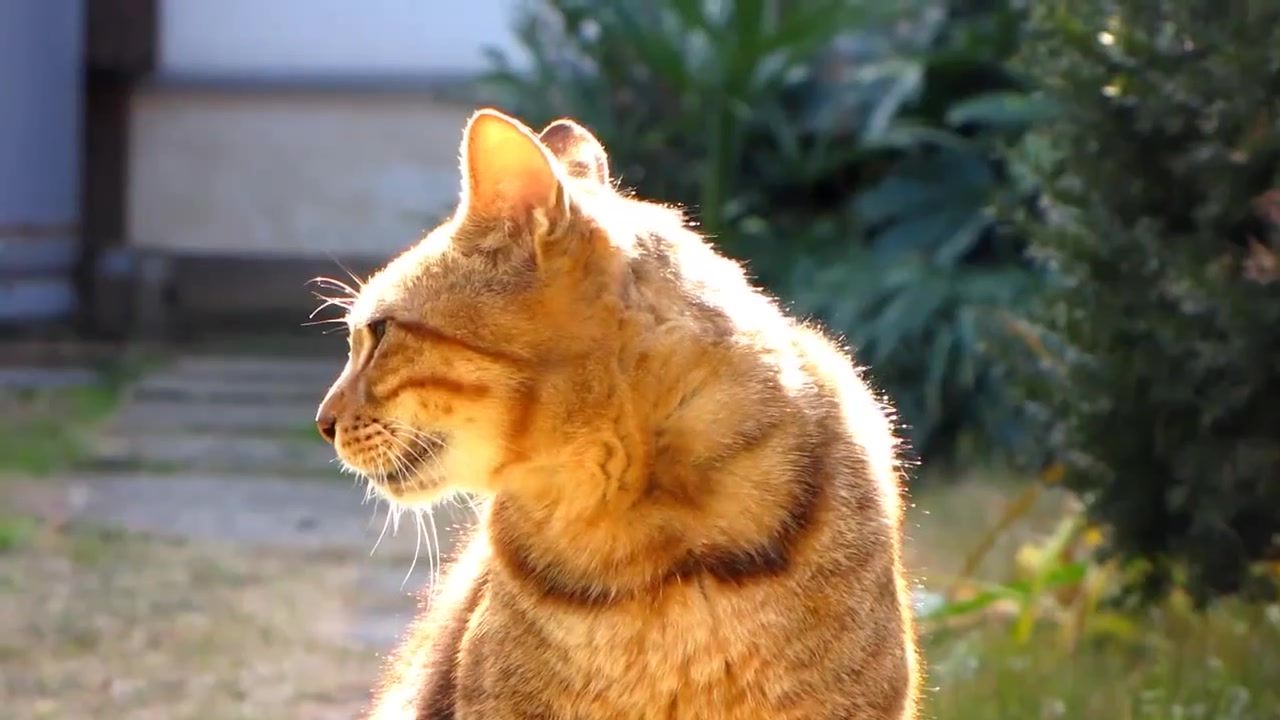cat: (312, 111, 923, 720)
